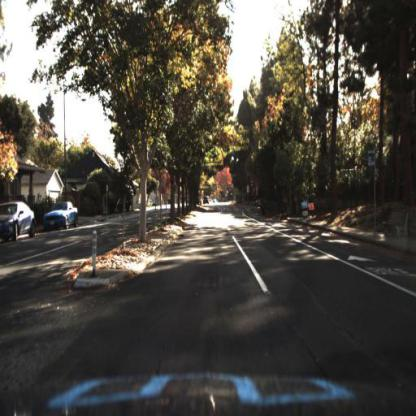car: (1, 200, 38, 242), (42, 201, 82, 236), (43, 199, 81, 231), (202, 193, 211, 209)
